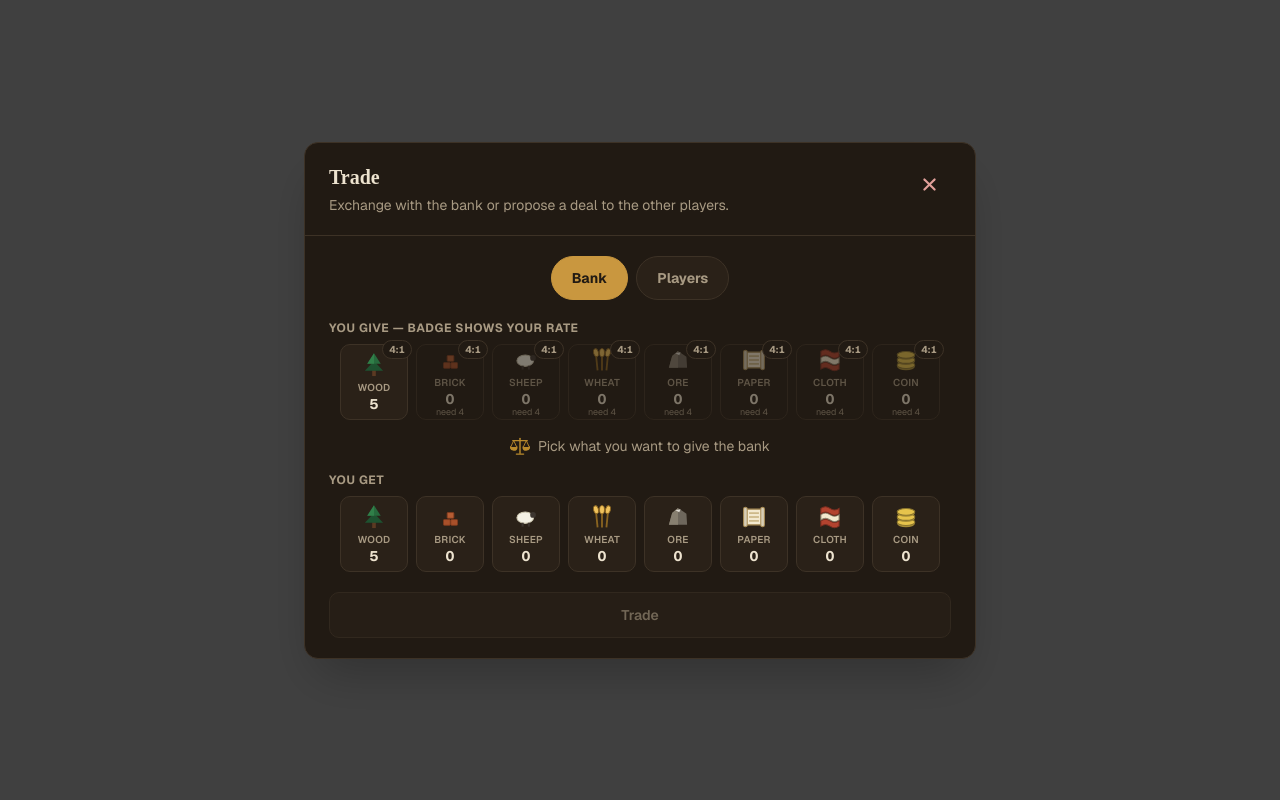
Test case: TradeModal — bank › reports a completed trade inline rather than blocking on an OK button
Click the button with aria-label "Give Wood".
click(374, 382)  # box [340,344,408,420]
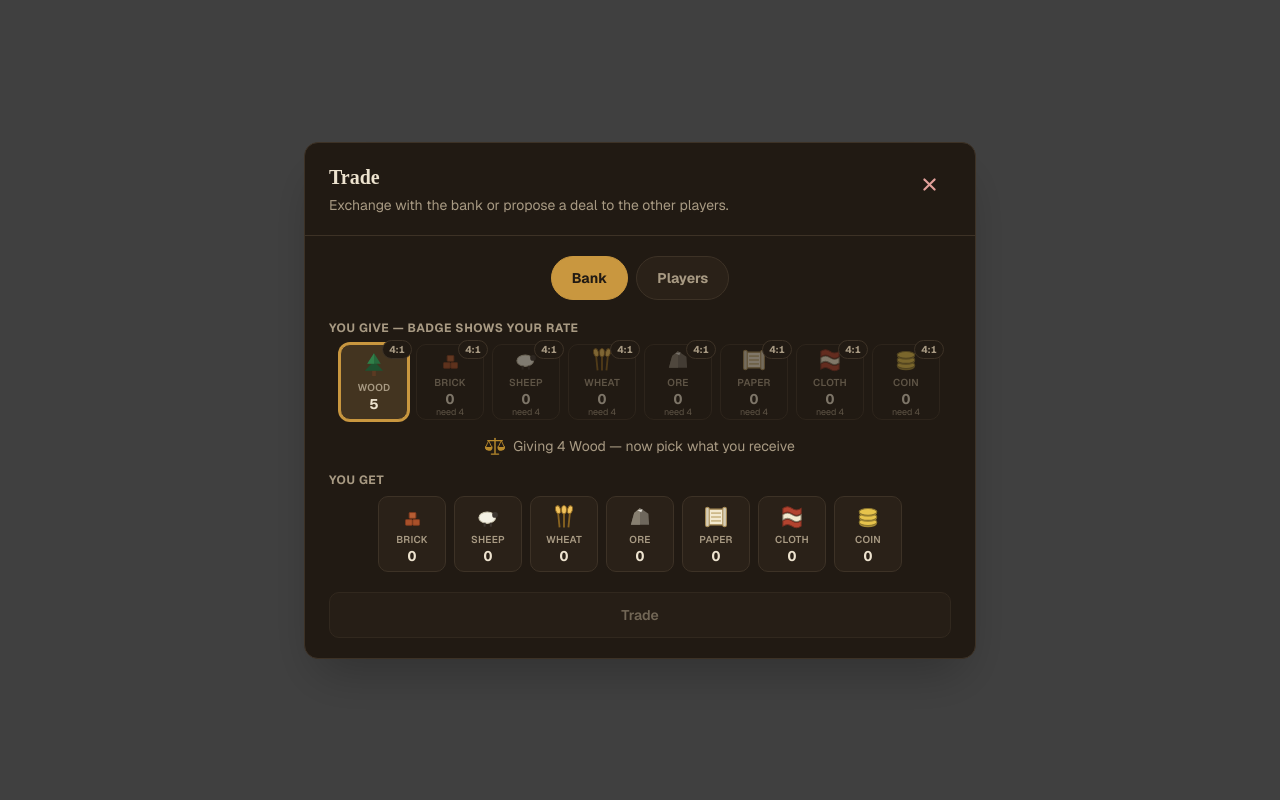
Click the button with aria-label "Receive Brick".
click(412, 534)  # box [378,496,446,572]
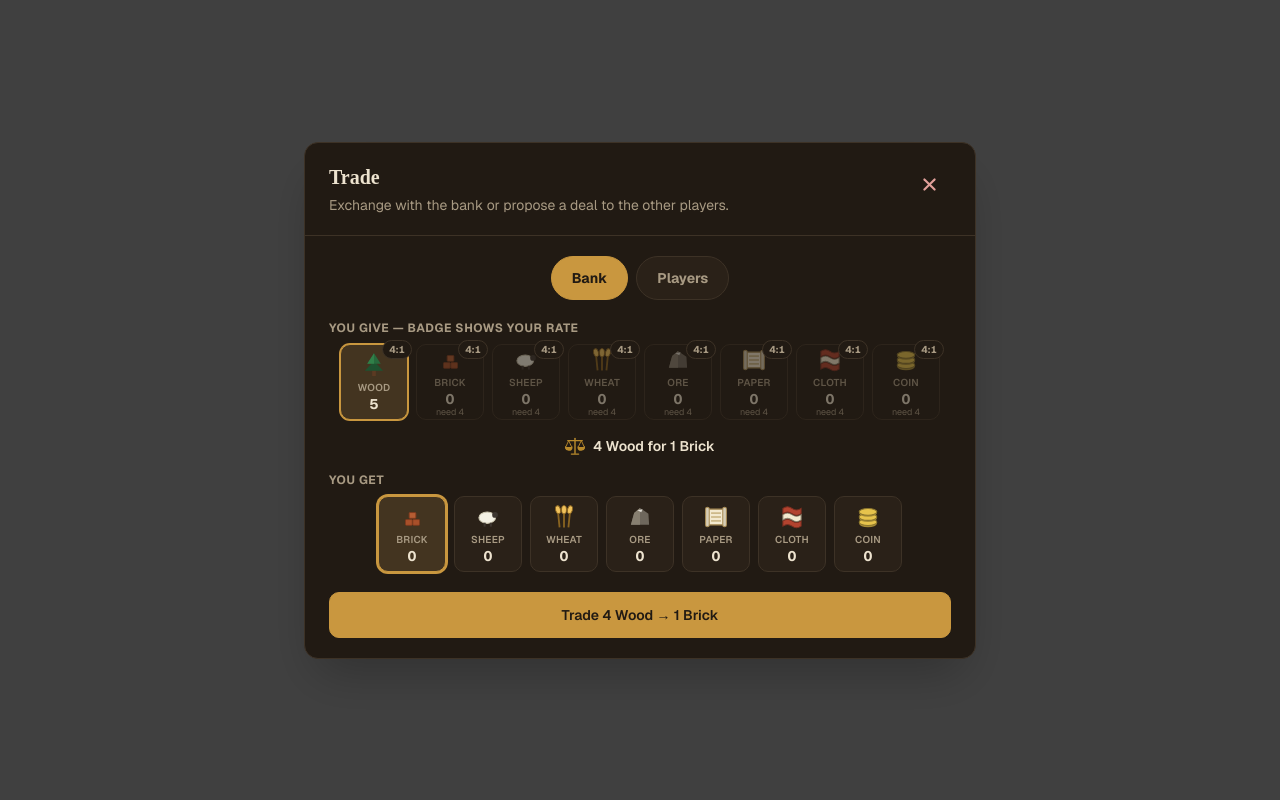
Click the button "Trade 4 Wood → 1 Brick".
click(640, 614)  # box [329,592,951,638]
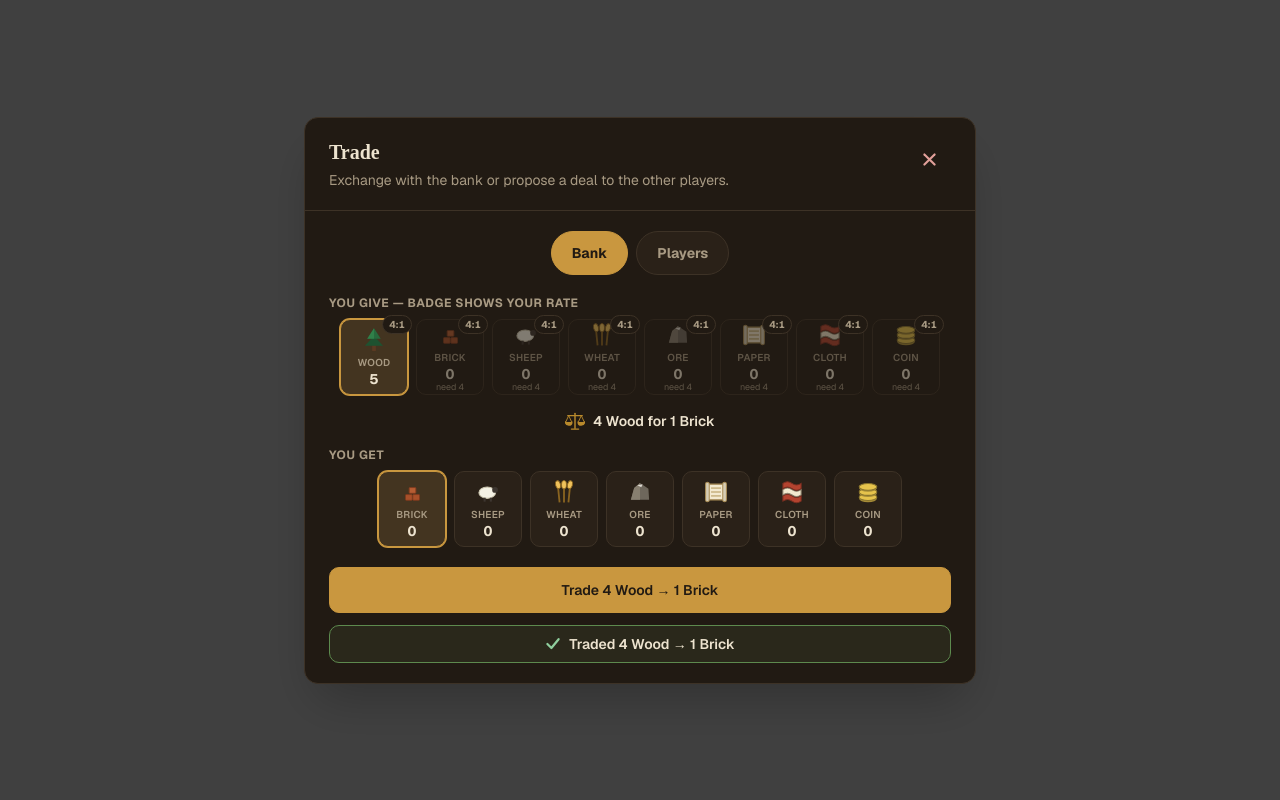
Expected: the text "Traded 4 Wood → 1 Brick" is shown, [569,634,735,654]
